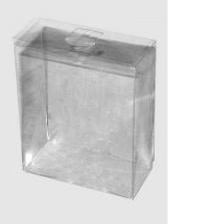plastic_box: (6, 8, 162, 206)
